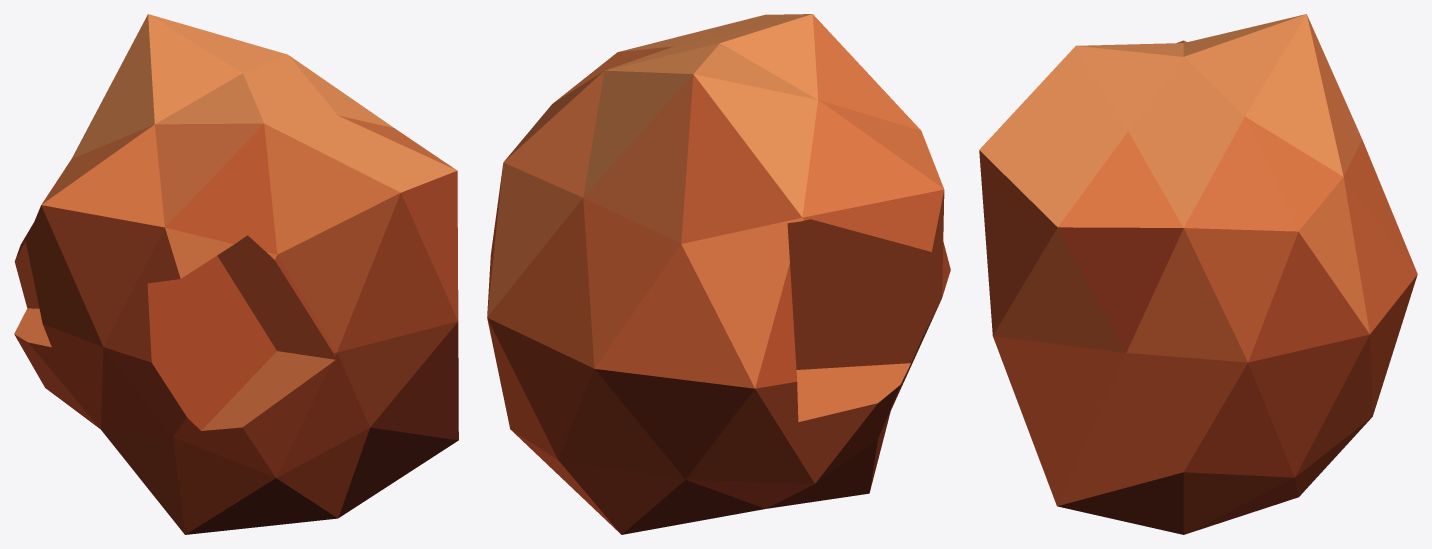
File: SM_BOULDER_02.fbx
3 views of the same model, side by side, from view 1: azimuth 30°, elevation 25°; view 2: azimuth 150°, elevation 25°; view 3: azimuth 270°, elevation 25° (orthographic). The views are drawn at different scales.
Parts seen in each view (by area): view 1: BOULDER_02; view 2: BOULDER_02; view 3: BOULDER_02.
Boxes of the visible parts, x1,y1,x2,y2 form: BOULDER_02: (14,14,458,534); BOULDER_02: (487,14,950,534); BOULDER_02: (979,14,1417,534).
Bounding box in the file's own units: 2.05 × 1.99 × 2.25.
